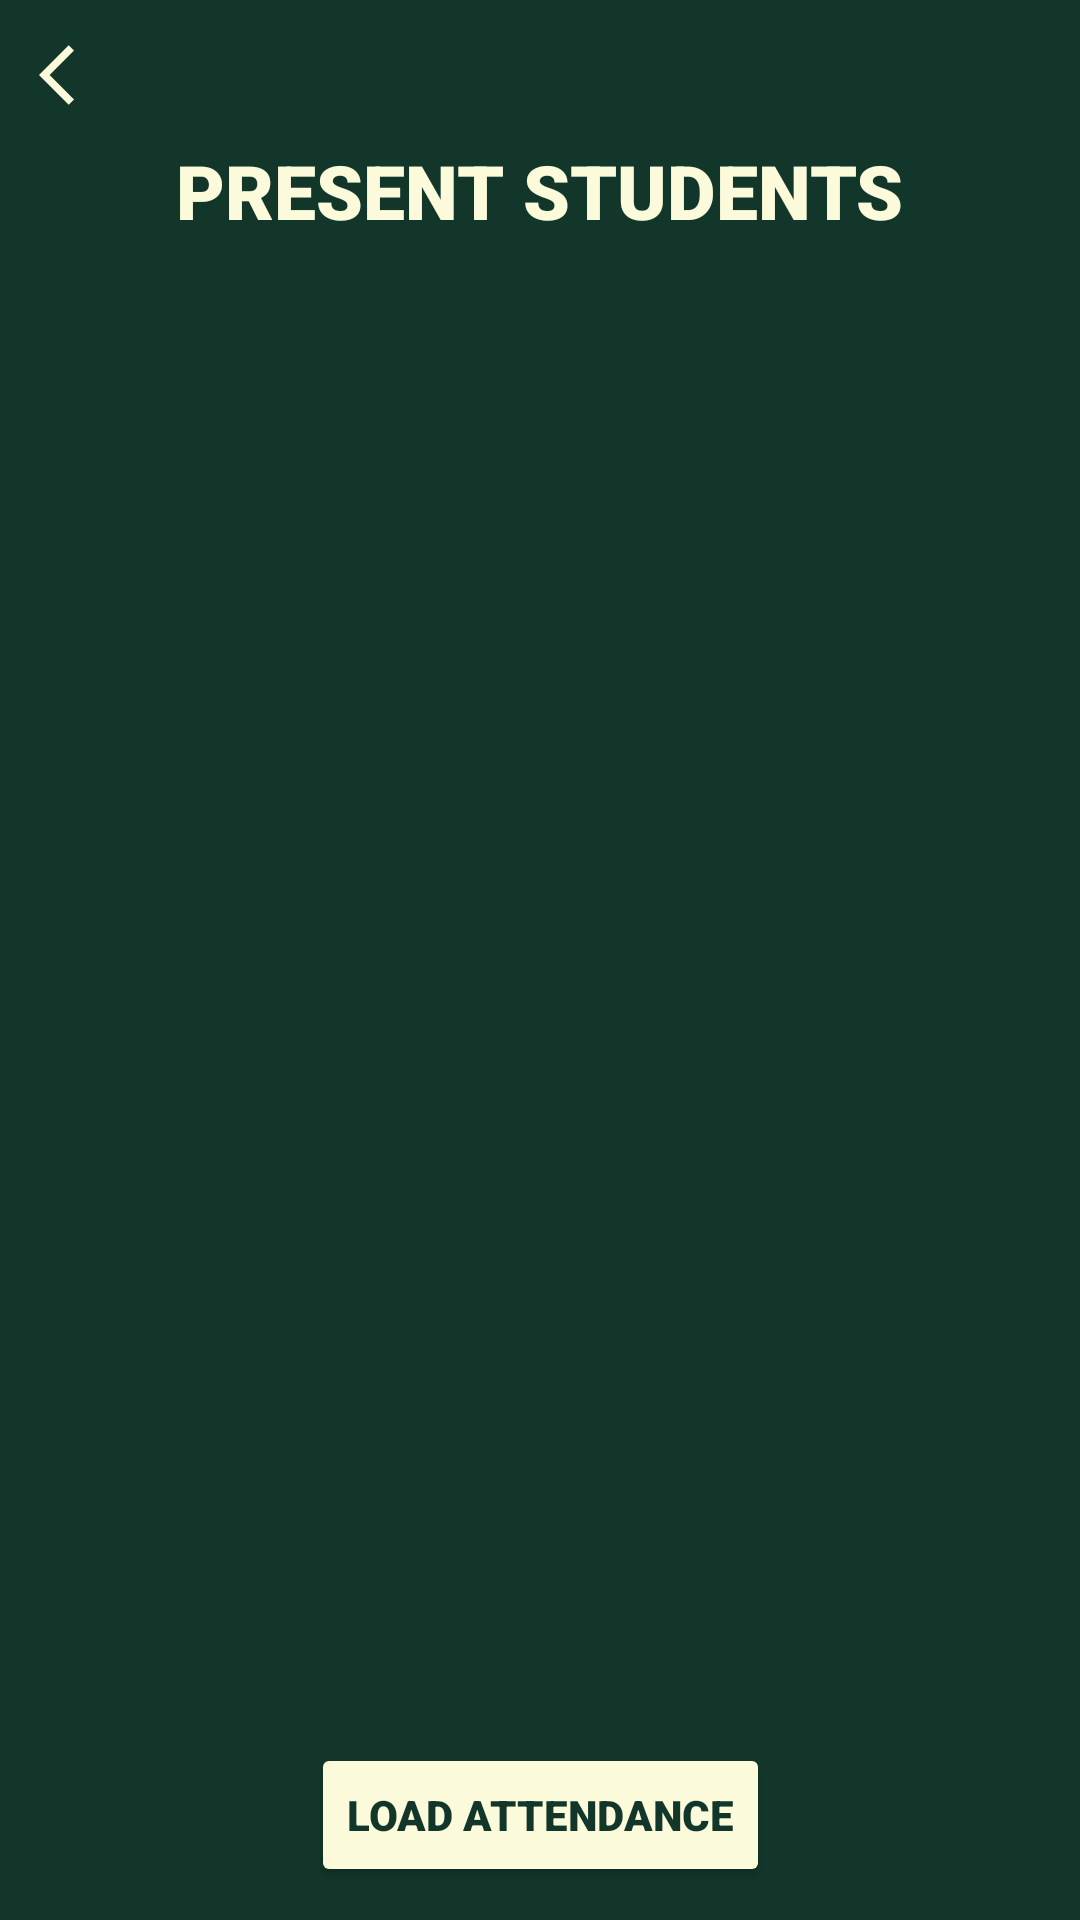

Icons on this 1080px×1920px Android screen, each with the point to tap as point (x, y):
arrow back: point (56, 75)
